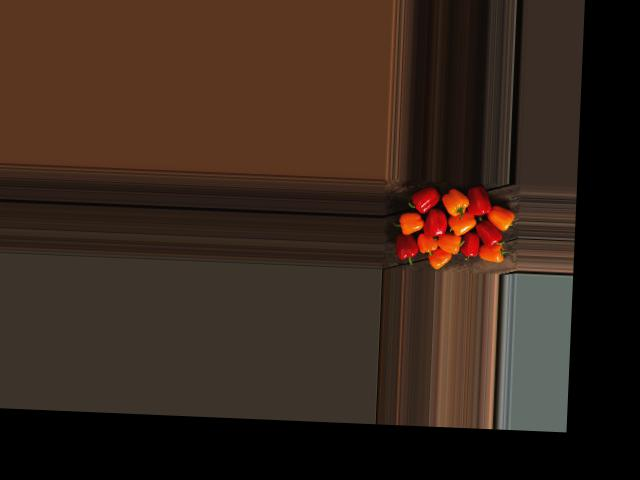bell_pepper: (479, 200, 516, 231)
